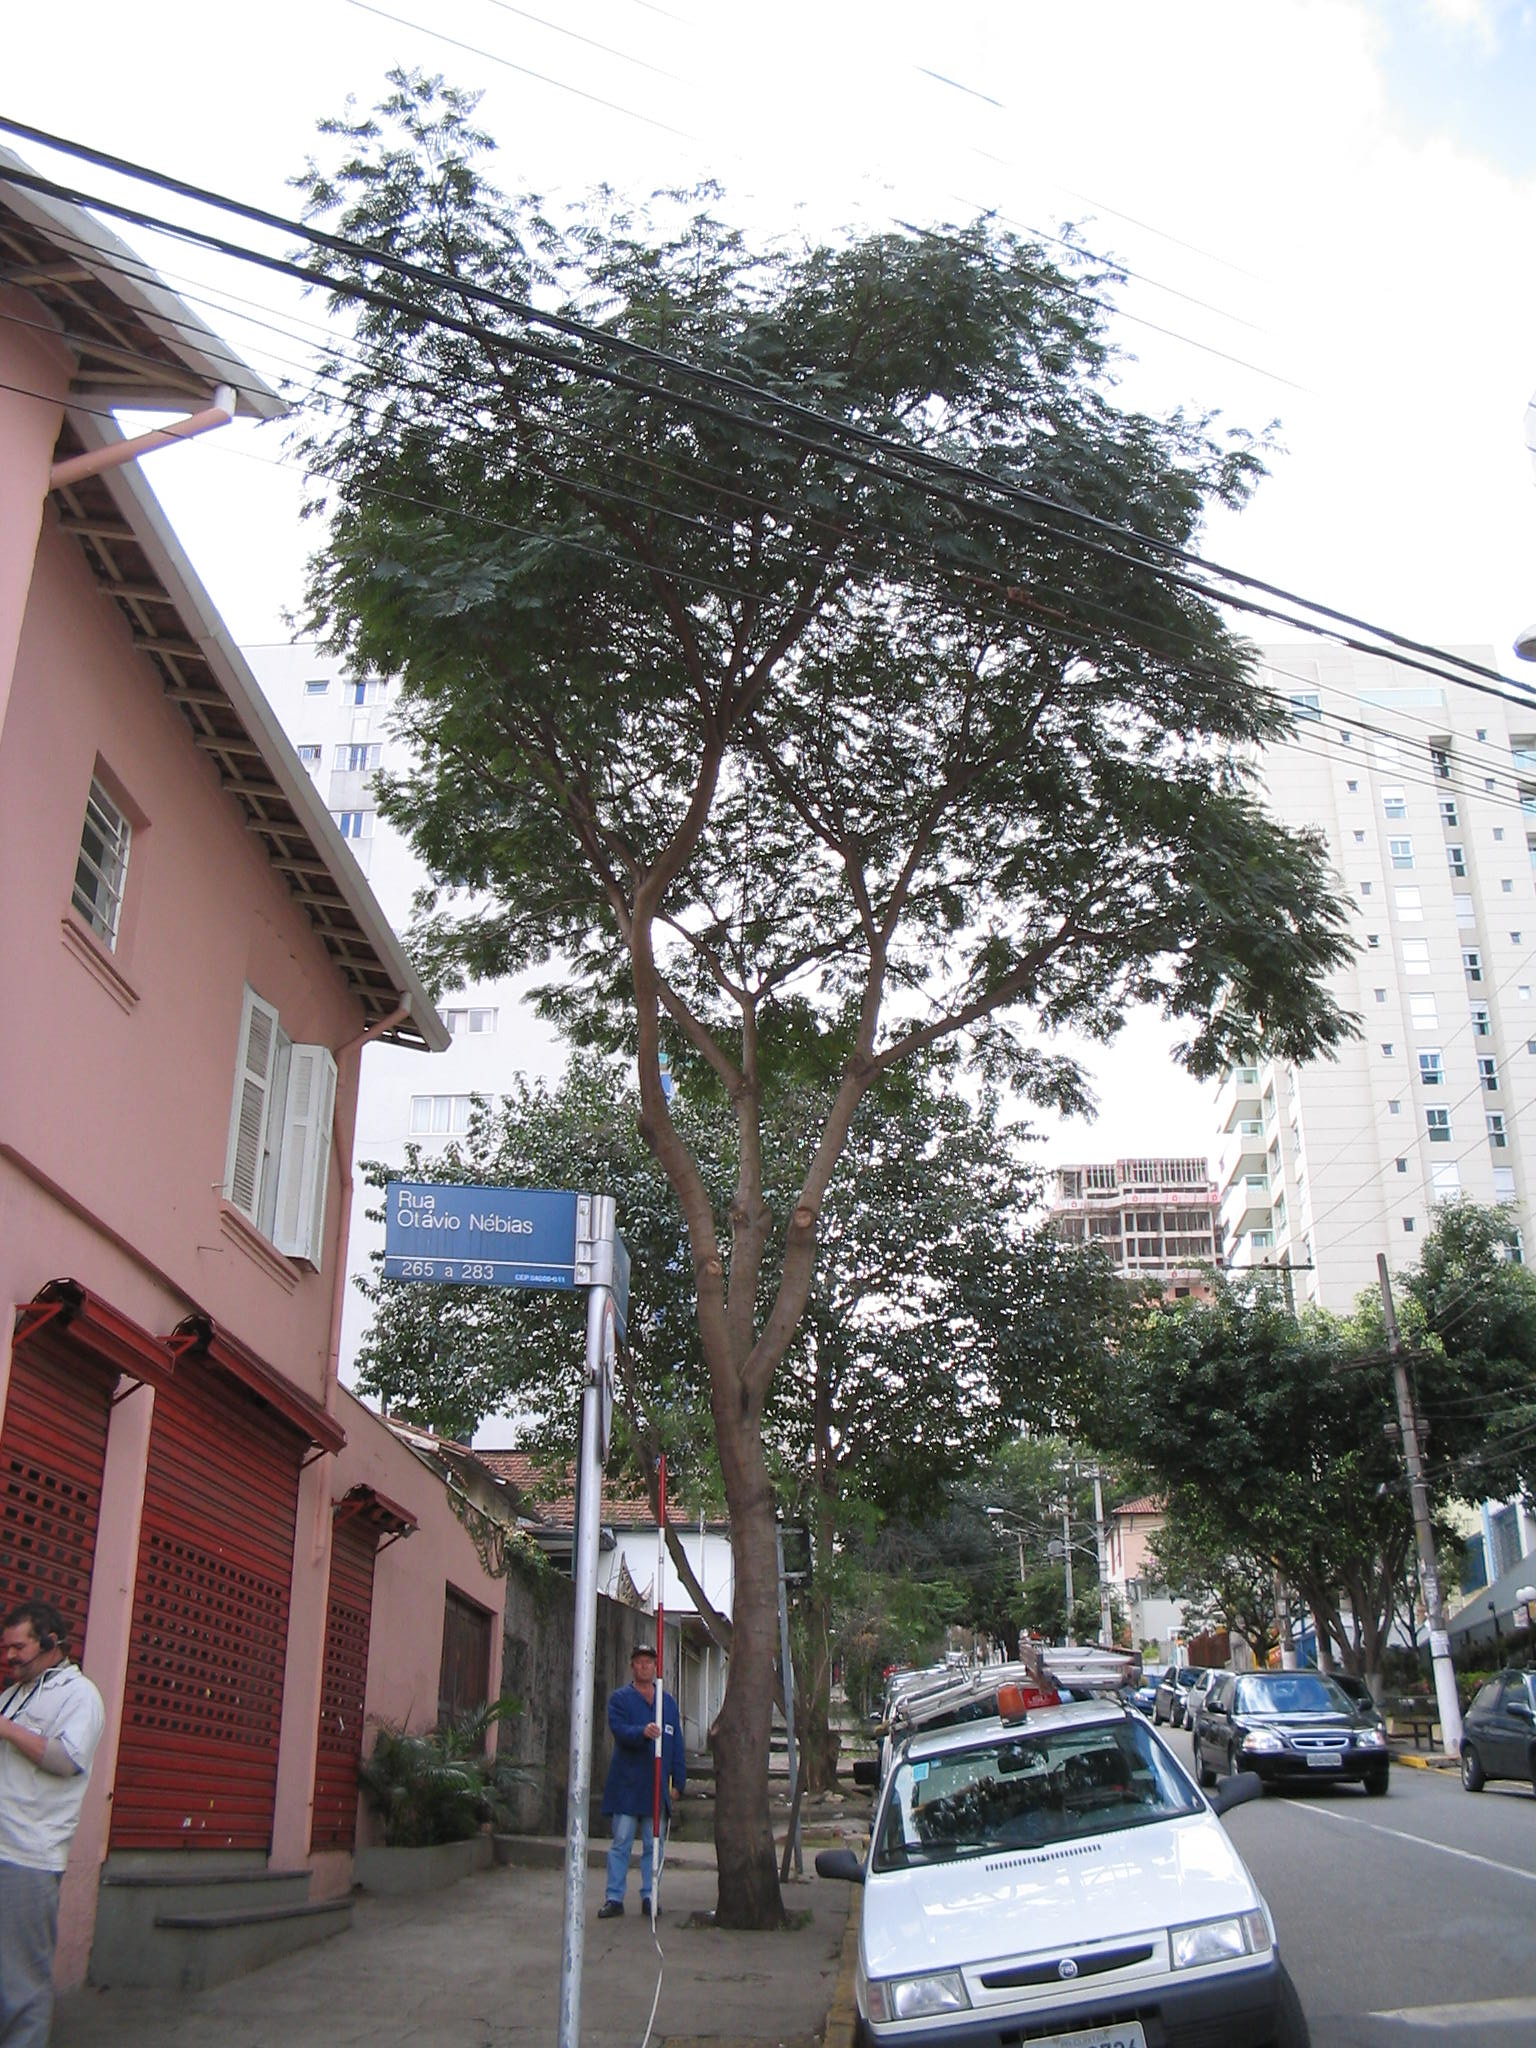crown: (278, 58, 1370, 1103)
stem: (678, 1405, 815, 1929)
stick: (616, 1453, 694, 1929)
tree: (273, 58, 1373, 1932)
